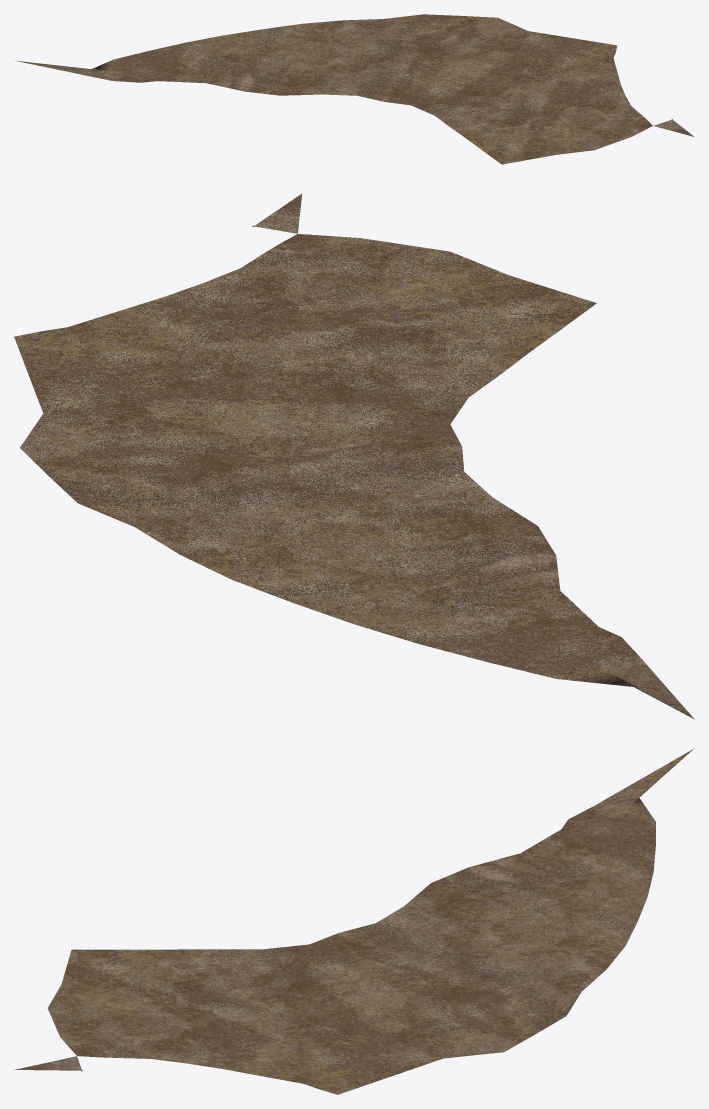
Rendered from suelo_t_5.obj.
3 renders of one model, top to bottom at view 1: azimuth 30°, elevation 25°; view 2: azimuth 150°, elevation 25°; view 3: azimuth 270°, elevation 25°, orthographic. The views are drawn at different scales.
Visible parts, largest first — view 1: suelo_t_5; view 2: suelo_t_5; view 3: suelo_t_5.
Part boxes in pixels (x1=…): suelo_t_5: x1=15, y1=14, x2=693, y2=164; suelo_t_5: x1=14, y1=193, x2=694, y2=719; suelo_t_5: x1=14, y1=749, x2=693, y2=1094.
Size of the model in its own units: 508 by 9.97 by 439.
1 material, 1 textured.
